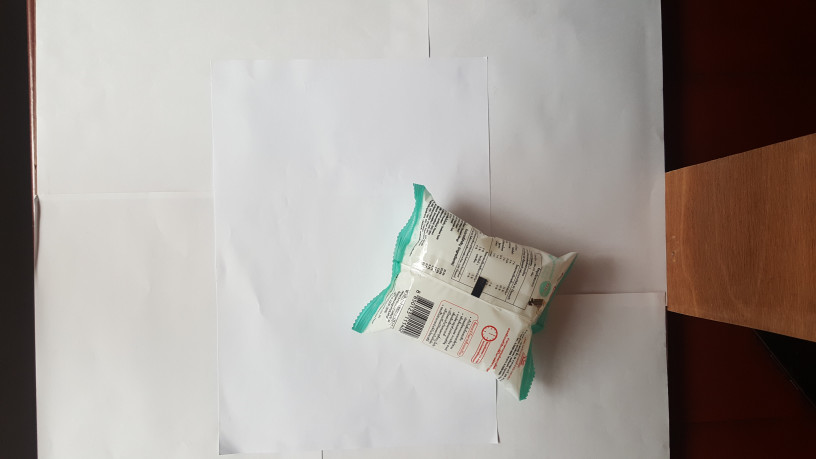farmhouse-sweetsandwich-chocolate: (347, 181, 580, 403)
